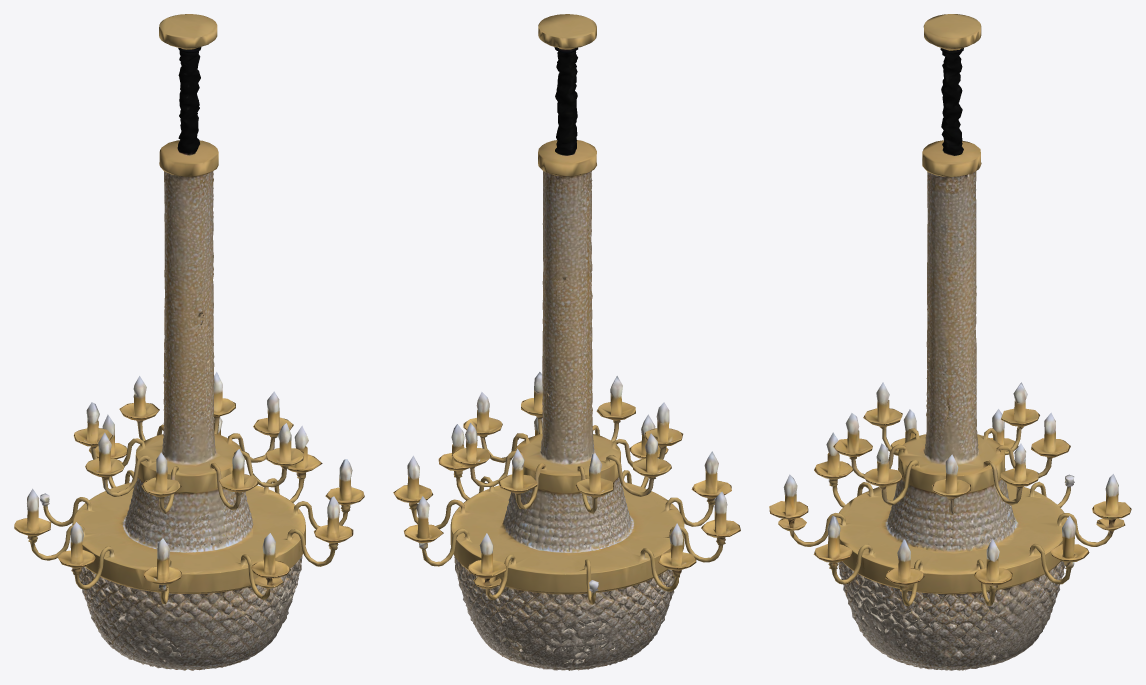
Rendered from decor-chandelier-basket.glb.
The picture shows the model from 3 angles, left to right: view 1: azimuth 30°, elevation 25°; view 2: azimuth 150°, elevation 25°; view 3: azimuth 270°, elevation 25°; orthographic projection.
Visible parts, largest first — view 1: tripo_node_1115f78e-7aa2-4be0-bde4-a6f85f3f753c; view 2: tripo_node_1115f78e-7aa2-4be0-bde4-a6f85f3f753c; view 3: tripo_node_1115f78e-7aa2-4be0-bde4-a6f85f3f753c.
Boxes of the visible parts, left/top/right/bottom form: tripo_node_1115f78e-7aa2-4be0-bde4-a6f85f3f753c: left=14, top=14, right=364, bottom=670; tripo_node_1115f78e-7aa2-4be0-bde4-a6f85f3f753c: left=393, top=14, right=740, bottom=670; tripo_node_1115f78e-7aa2-4be0-bde4-a6f85f3f753c: left=769, top=14, right=1131, bottom=670.
Size of the model in its own units: 0.547 by 1.1 by 0.5714.
Materials: 1 (1 with a texture image).
